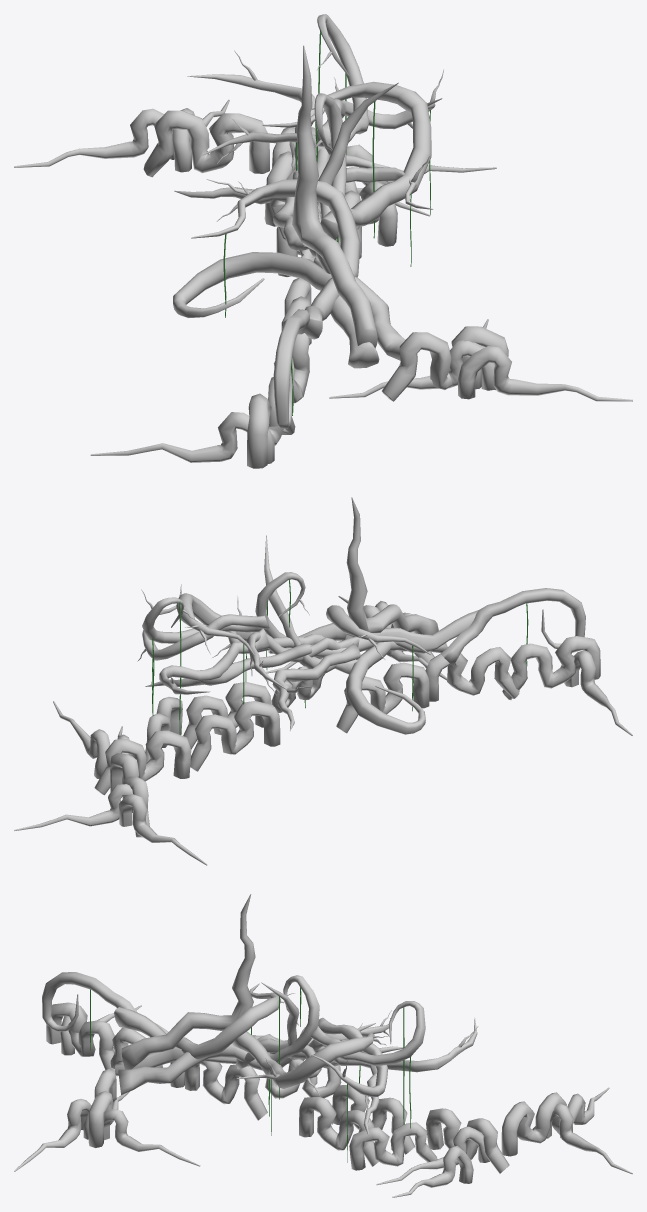
File: Plants_Mutant_V06.fbx
The picture shows the model from 3 angles, top to bottom: view 1: azimuth 30°, elevation 25°; view 2: azimuth 150°, elevation 25°; view 3: azimuth 270°, elevation 25°; orthographic projection. The views are drawn at different scales.
Parts seen in each view (by area): view 1: Plants, Lianas; view 2: Plants, Lianas; view 3: Plants, Lianas.
Part boxes in pixels (box(x1,y1,x2,y2)): Plants: box(14, 14, 632, 468); Lianas: box(223, 30, 430, 415); Plants: box(14, 497, 632, 865); Lianas: box(151, 579, 528, 734); Plants: box(14, 894, 632, 1197); Lianas: box(90, 987, 411, 1162).
Bounding box in the file's own units: 1502 × 742 × 1860.
